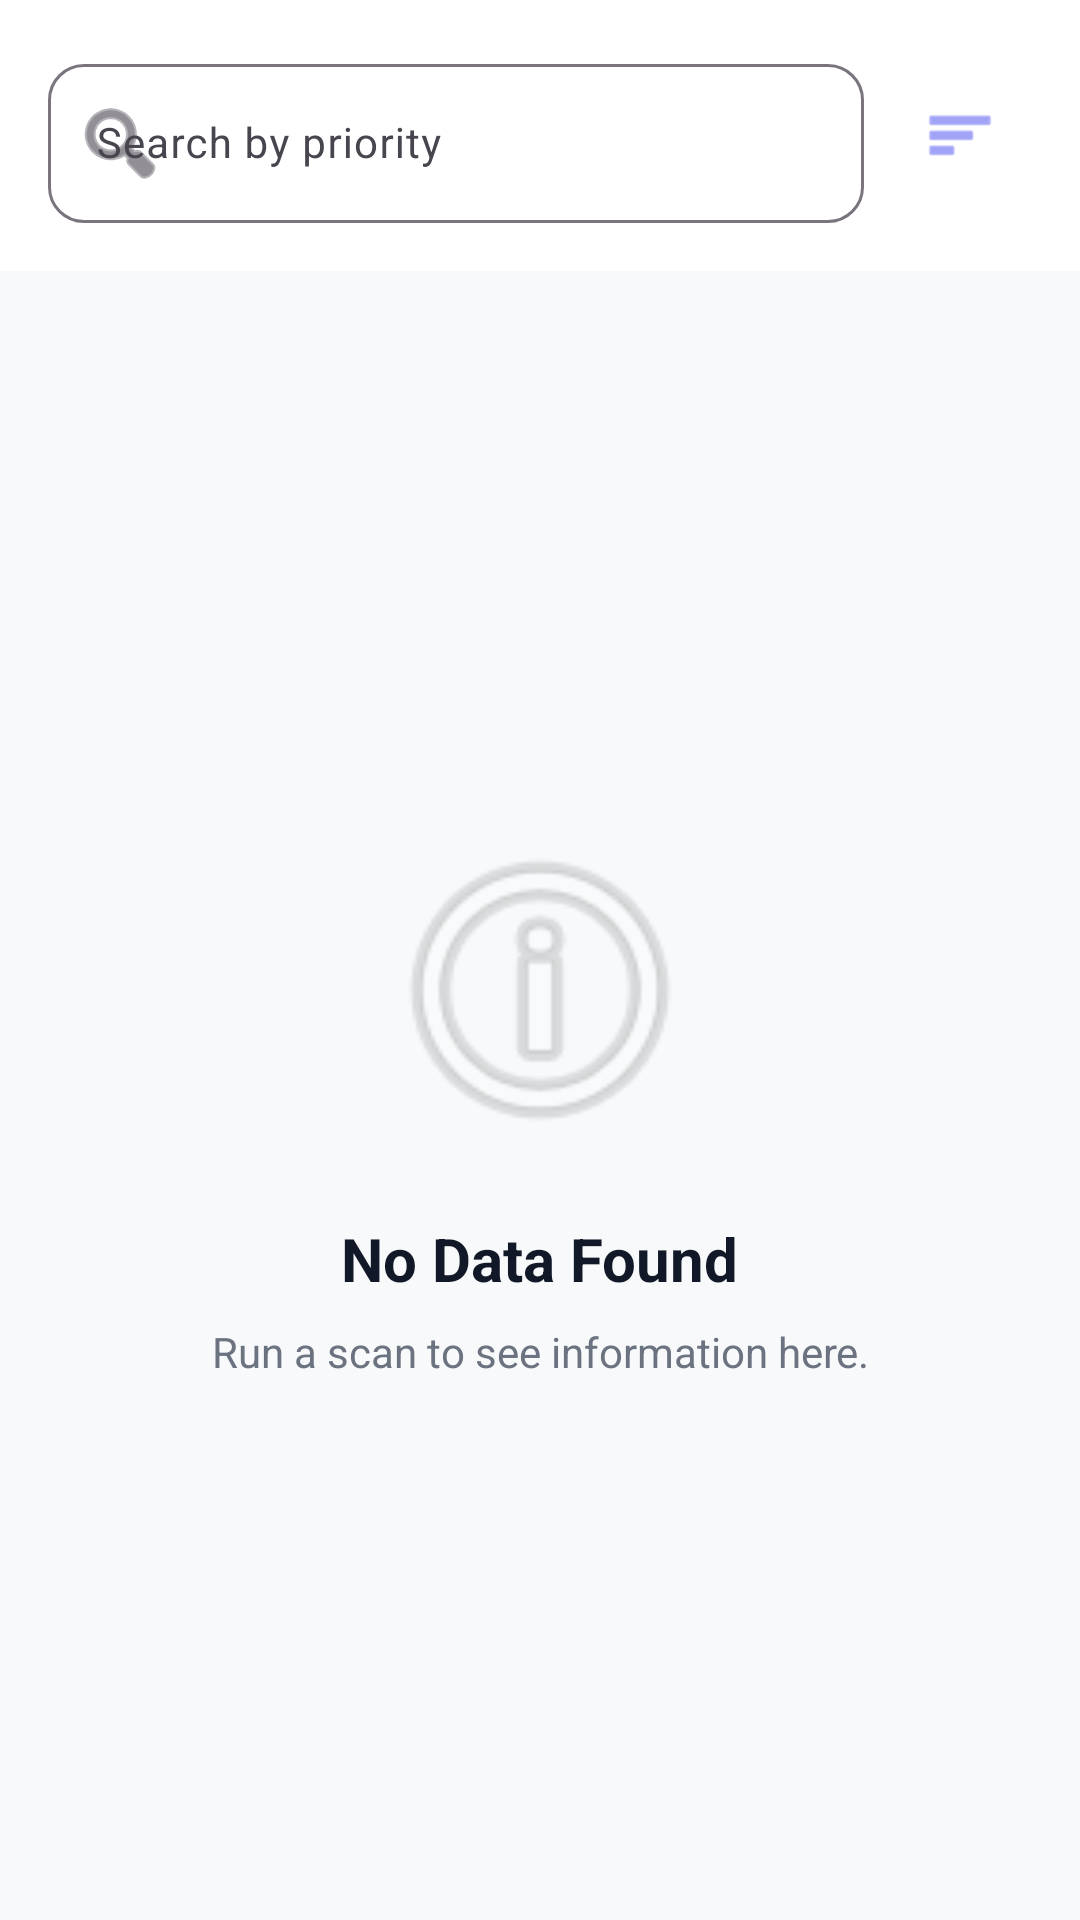

Screen size 1080px×1920px. Icon name, then its box in pixels as bbox=[x1, y1, x2, y2]:
Filter: bbox=[929, 115, 991, 155]
info details: bbox=[413, 863, 667, 1117]
